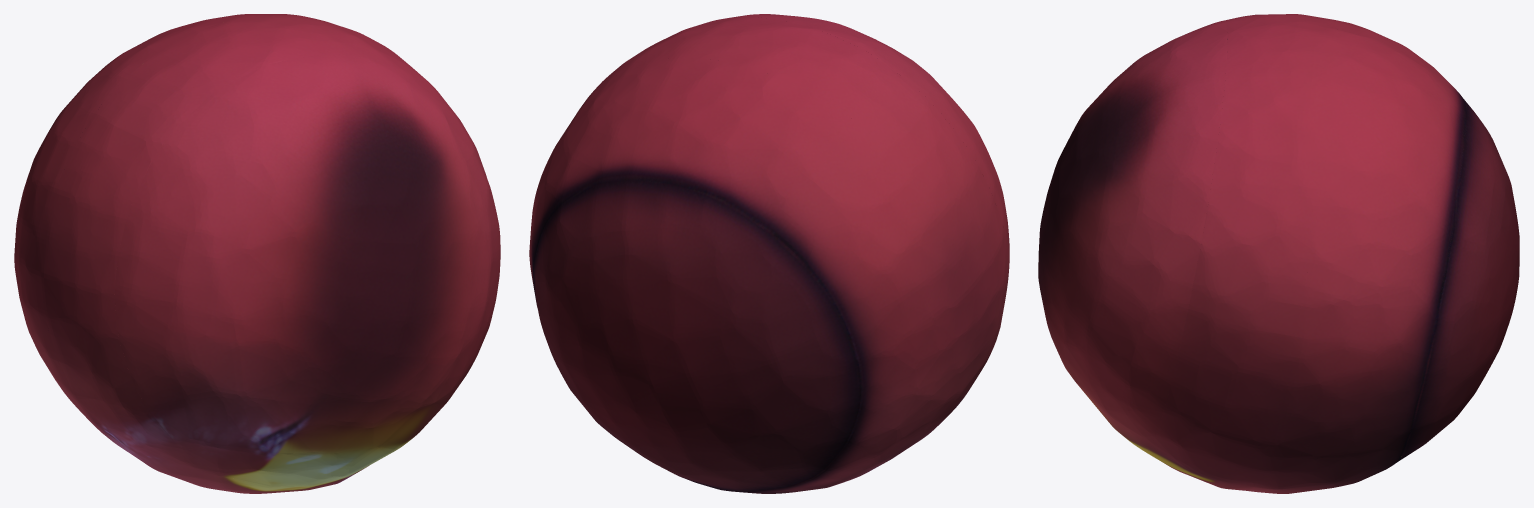
Rendered from hunyuan_recon.glb.
3 renders of one model, left to right at view 1: azimuth 30°, elevation 25°; view 2: azimuth 150°, elevation 25°; view 3: azimuth 270°, elevation 25°, orthographic.
Parts seen in each view (by area): view 1: world; view 2: world; view 3: world.
Boxes of the visible parts, box(x1,y1,x2,y2) form: world: box(14, 14, 500, 493); world: box(529, 14, 1009, 493); world: box(1038, 14, 1519, 493).
Size of the model in its own units: 0.0348 by 0.0347 by 0.0349.
1 material, 1 textured.
